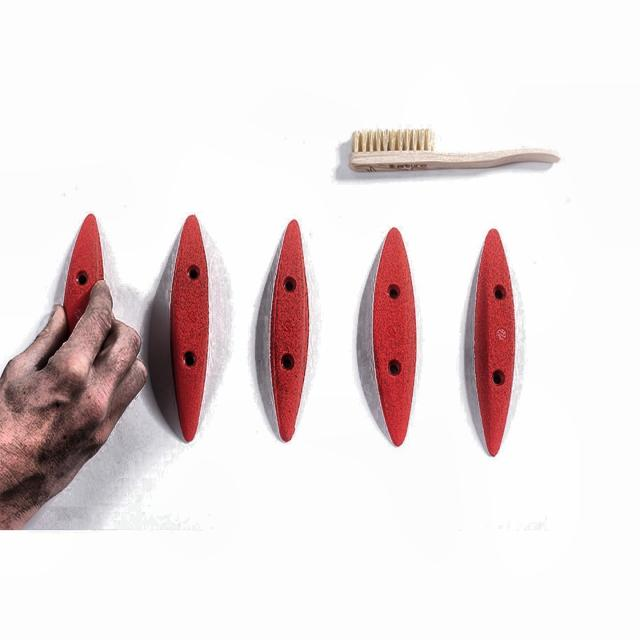Hold: (146, 193, 233, 470), (248, 201, 321, 465), (357, 215, 428, 470), (455, 222, 528, 468)
